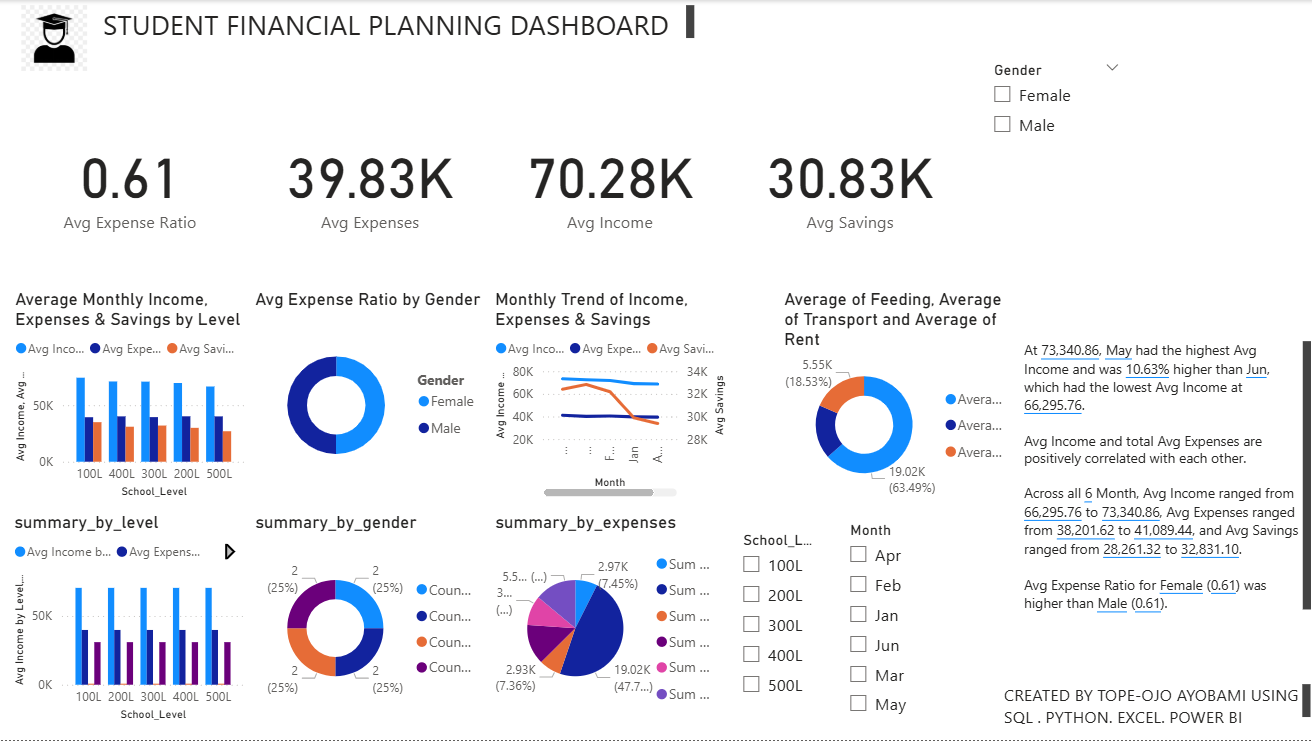

The page's visual inventory and layout, read from the dashboard file:
{"tool":"powerbi","page":{"name":"student financial planning","canvas":[1280,720],"ordinal":0},"visuals":[{"type":"image","box":[9.5,0,85.5,74.1],"z":0},{"type":"textbox","box":[95,0,584.9,43.7],"z":1000},{"type":"textbox","box":[971.7,660.4,308.3,59.3],"z":2000},{"type":"card","fields":{"Values":["student_financial_planning.Avg Expense Ratio"]},"box":[9.5,74.1,233.6,207],"z":3000},{"type":"card","fields":{"Values":["student_financial_planning.Avg Expenses"]},"box":[243.1,74.1,233.6,207],"z":4000},{"type":"card","fields":{"Values":["student_financial_planning.Avg Income"]},"box":[476.7,74.1,233.6,207],"z":5000},{"type":"card","fields":{"Values":["student_financial_planning.Avg Savings"]},"box":[710.3,74.1,233.6,207],"z":6000},{"type":"clusteredColumnChart","title":"Average Monthly Income, Expenses & Savings by Level","fields":{"Category":["student_financial_planning.School_Level"],"Y":["student_financial_planning.Avg Income","student_financial_planning.Avg Expenses","student_financial_planning.Avg Savings"]},"box":[9.5,281.1,233.6,207],"z":7000},{"type":"donutChart","fields":{"Category":["student_financial_planning.Gender"],"Y":["student_financial_planning.Avg Expense Ratio"]},"box":[243.1,281.1,233.6,207],"z":8000},{"type":"lineChart","title":"Monthly Trend of Income, Expenses & Savings","fields":{"Category":["student_financial_planning.Month"],"Y":["student_financial_planning.Avg Income","student_financial_planning.Avg Expenses"],"Y2":["student_financial_planning.Avg Savings"]},"box":[476.7,281.1,233.6,207],"z":9000},{"type":"donutChart","fields":{"Y":["Avg(student_financial_planning.Feeding)","Avg(student_financial_planning.Transport)","Avg(student_financial_planning.Rent)"]},"box":[757.7,281.1,233.6,207],"z":10000},{"type":"clusteredColumnChart","title":"summary_by_level","fields":{"Category":["student_financial_planning.School_Level"],"Y":["student_financial_planning.Avg Income by Level","student_financial_planning.Avg Expenses by Level","student_financial_planning.Avg Expense Ratio by Level","student_financial_planning.Avg Savings by Level"]},"box":[9,498,234,207],"z":11000},{"type":"donutChart","title":"summary_by_gender","fields":{"Y":["CountNonNull(vw_summary_by_gender.Avg_Expenses)","CountNonNull(vw_summary_by_gender.Avg_Expense_Ratio_Percent)","CountNonNull(vw_summary_by_gender.Avg_Income)","CountNonNull(vw_summary_by_gender.Avg_Savings)"]},"box":[243,498,234,207],"z":12000},{"type":"pieChart","title":"summary_by_expenses","fields":{"Y":["Sum(vw_expense_by_category.Avg_Entertainment)","Sum(vw_expense_by_category.Avg_Feeding)","Sum(vw_expense_by_category.Avg_Other_Expenses)","Sum(vw_expense_by_category.Avg_Transport)","Sum(vw_expense_by_category.Avg_Utilities)","Sum(vw_expense_by_category.Avg_Rent)"]},"box":[477,498,234,207],"z":13000},{"type":"textbox","box":[991.1,326.8,288.9,288.9],"z":14000},{"type":"slicer","fields":{"Values":["student_financial_planning.Gender"]},"box":[954.2,54.5,146.9,192.6],"z":15000},{"type":"slicer","fields":{"Values":["student_financial_planning.School_Level"]},"box":[710,511.6,104.1,208.1],"z":16000},{"type":"slicer","fields":{"Values":["student_financial_planning.Month"]},"box":[814.1,501.9,108.9,203.3],"z":17000}]}

Visuals, with their boxes in screenshot pixels (x1, y1, x2, y2), scaled from the page's 1280x720 canvas onto the 1312x741 screenshot:
image: {"x1": 10, "y1": 0, "x2": 97, "y2": 76}
textbox: {"x1": 97, "y1": 0, "x2": 697, "y2": 45}
textbox: {"x1": 996, "y1": 680, "x2": 1311, "y2": 740}
card - student_financial_planning.Avg Expense Ratio: {"x1": 10, "y1": 76, "x2": 249, "y2": 289}
card - student_financial_planning.Avg Expenses: {"x1": 249, "y1": 76, "x2": 489, "y2": 289}
card - student_financial_planning.Avg Income: {"x1": 489, "y1": 76, "x2": 728, "y2": 289}
card - student_financial_planning.Avg Savings: {"x1": 728, "y1": 76, "x2": 967, "y2": 289}
"Average Monthly Income, Expenses & Savings by Level" clusteredColumnChart: {"x1": 10, "y1": 289, "x2": 249, "y2": 502}
donutChart - student_financial_planning.Gender x student_financial_planning.Avg Expense Ratio: {"x1": 249, "y1": 289, "x2": 489, "y2": 502}
"Monthly Trend of Income, Expenses & Savings" lineChart: {"x1": 489, "y1": 289, "x2": 728, "y2": 502}
donutChart - Avg(student_financial_planning.Feeding) x Avg(student_financial_planning.Transport): {"x1": 777, "y1": 289, "x2": 1016, "y2": 502}
"summary_by_level" clusteredColumnChart: {"x1": 9, "y1": 513, "x2": 249, "y2": 726}
"summary_by_gender" donutChart: {"x1": 249, "y1": 513, "x2": 489, "y2": 726}
"summary_by_expenses" pieChart: {"x1": 489, "y1": 513, "x2": 729, "y2": 726}
textbox: {"x1": 1016, "y1": 336, "x2": 1311, "y2": 634}
slicer - student_financial_planning.Gender: {"x1": 978, "y1": 56, "x2": 1129, "y2": 254}
slicer - student_financial_planning.School_Level: {"x1": 728, "y1": 527, "x2": 834, "y2": 740}
slicer - student_financial_planning.Month: {"x1": 834, "y1": 517, "x2": 946, "y2": 726}
